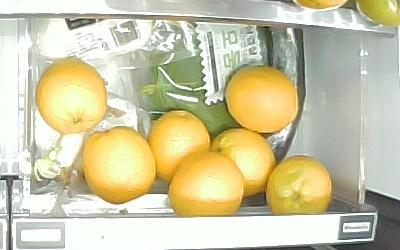orange: (35, 56, 108, 133), (83, 127, 156, 203), (167, 149, 244, 217), (224, 63, 299, 132), (149, 110, 212, 187), (214, 127, 276, 195), (264, 153, 332, 213)
